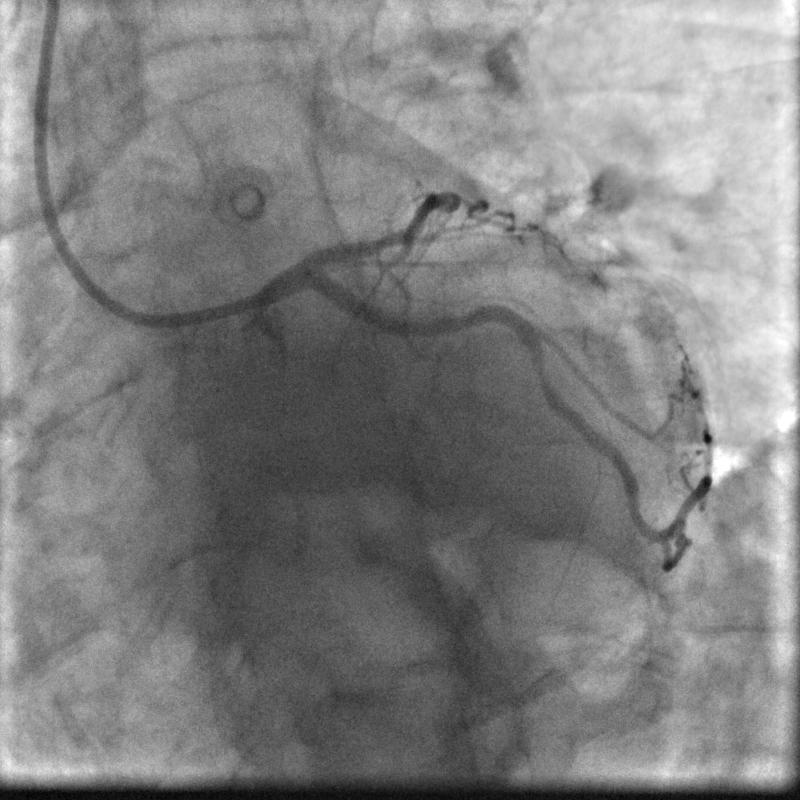Stenosis: (533, 363, 552, 382)
